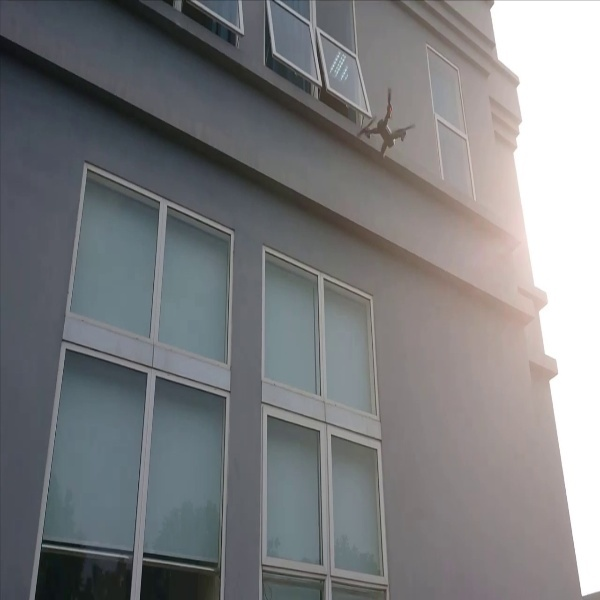drone: (355, 85, 416, 171)
